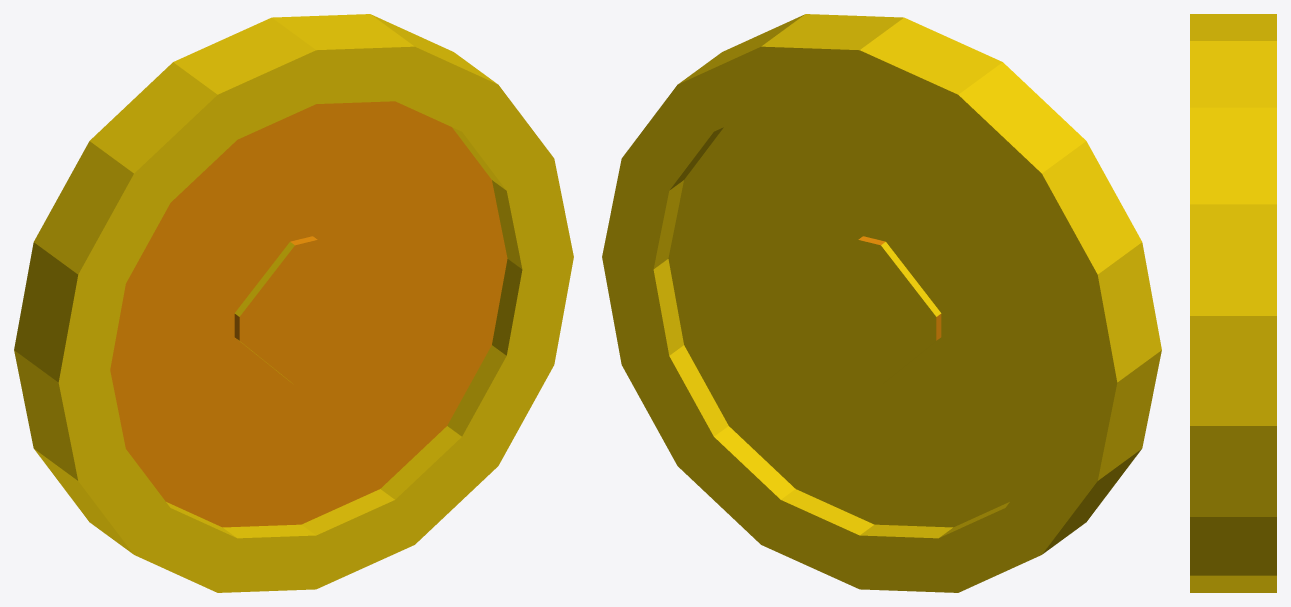
3 renders of one model, left to right at view 1: azimuth 30°, elevation 25°; view 2: azimuth 150°, elevation 25°; view 3: azimuth 270°, elevation 25°, orthographic. The views are drawn at different scales.
Parts seen in each view (by area): view 1: Coin; view 2: Coin; view 3: Coin.
Boxes of the visible parts, x1,y1,x2,y2 form: Coin: [14, 14, 573, 592]; Coin: [602, 14, 1161, 592]; Coin: [1190, 14, 1276, 592].
Size of the model in its own units: 0.9388 by 0.9388 by 0.1408.
Materials: 1 (1 with a texture image).
